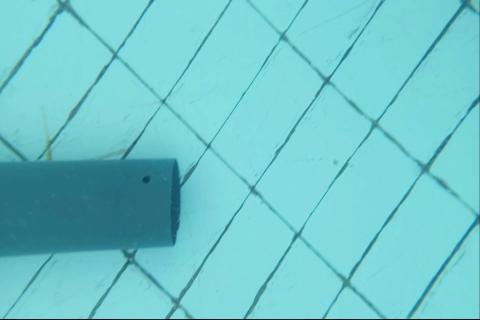kebocoran: (141, 175, 150, 184)
